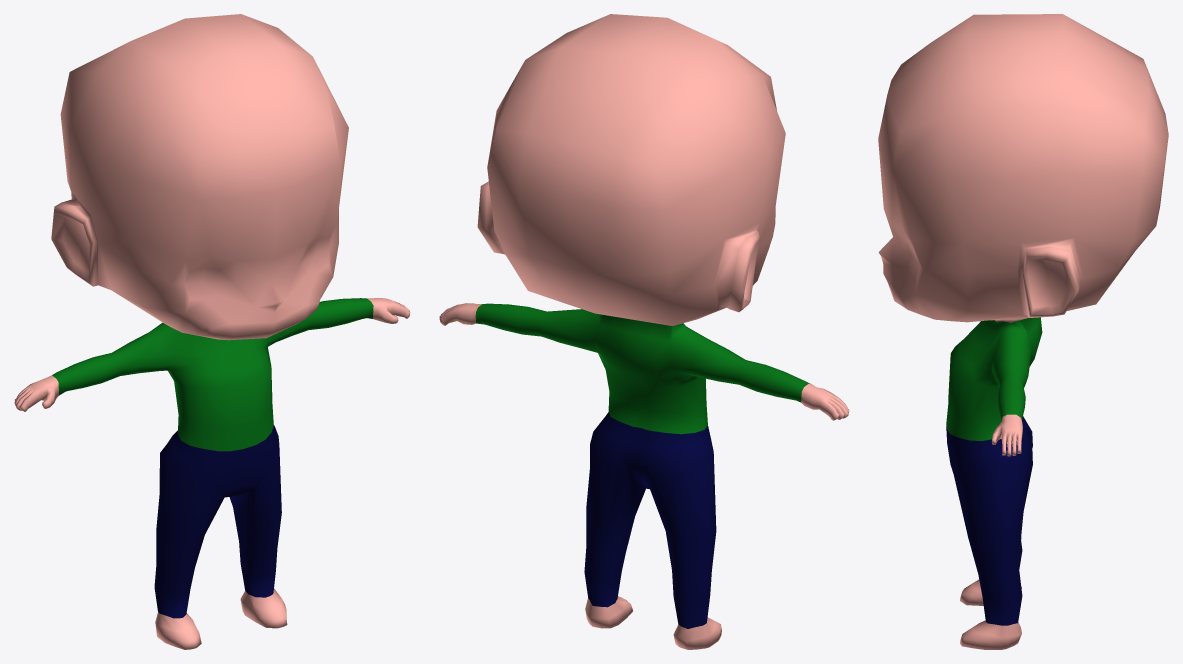
The model's file is child_man.FBX.
The picture shows the model from 3 angles, left to right: view 1: azimuth 30°, elevation 25°; view 2: azimuth 150°, elevation 25°; view 3: azimuth 270°, elevation 25°; orthographic projection. The views are drawn at different scales.
Visible parts, largest first — view 1: f-body; view 2: f-body; view 3: f-body.
Part boxes in pixels (bbox=[...]): f-body: bbox=[14, 14, 410, 649]; f-body: bbox=[439, 14, 849, 649]; f-body: bbox=[878, 14, 1168, 649].
Bounding box in the file's own units: 32.26 × 45.67 × 20.46.
